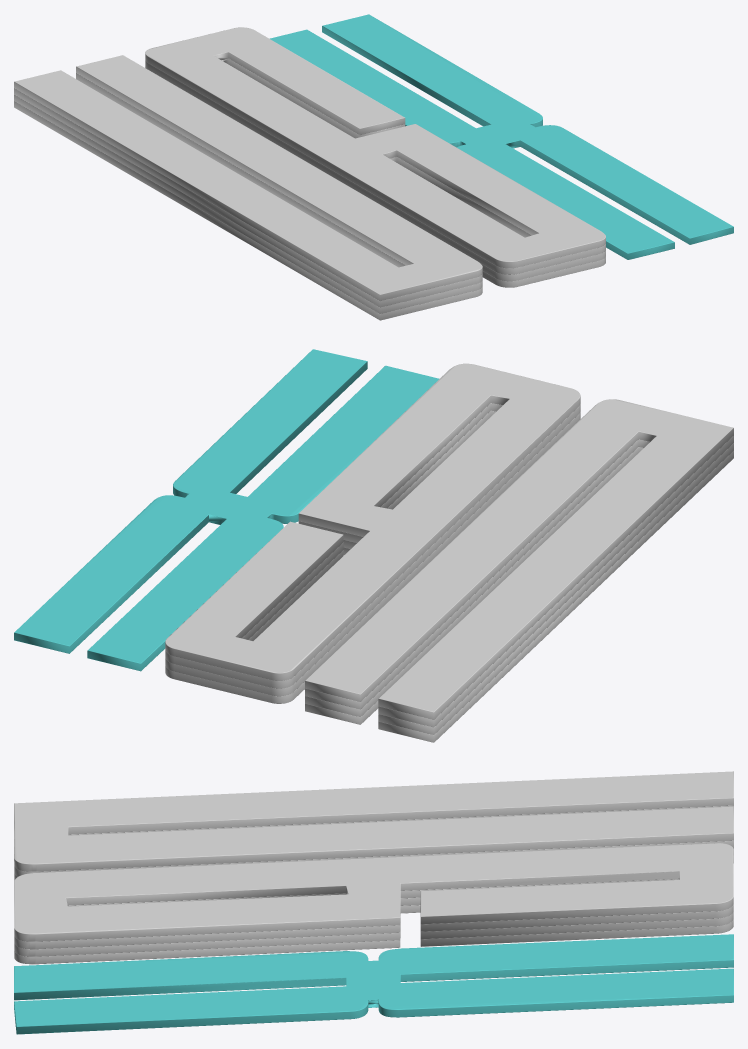
File: nex-wordmark.glb
3 views of the same model, one above another, from view 1: azimuth 30°, elevation 25°; view 2: azimuth 150°, elevation 25°; view 3: azimuth 270°, elevation 25° (orthographic). The views are drawn at different scales.
Visible parts, largest first — view 1: Curve.008; view 2: Curve.008; view 3: Curve.008.
Part boxes in pixels (<box>): Curve.008: <box>14,14,733,320</box>; Curve.008: <box>14,349,733,742</box>; Curve.008: <box>14,771,733,1034</box>.
Size of the model in its own units: 1.53 by 0.0928 by 2.
